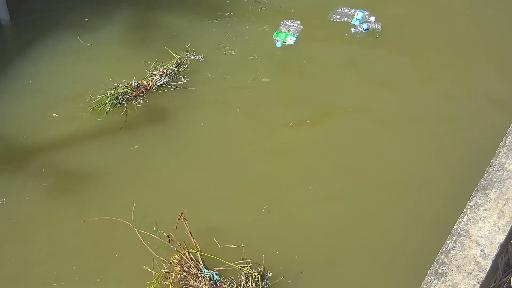plastic: (258, 18, 313, 50), (325, 8, 381, 22), (348, 24, 391, 36)
twig: (91, 185, 293, 288), (74, 39, 212, 120)
